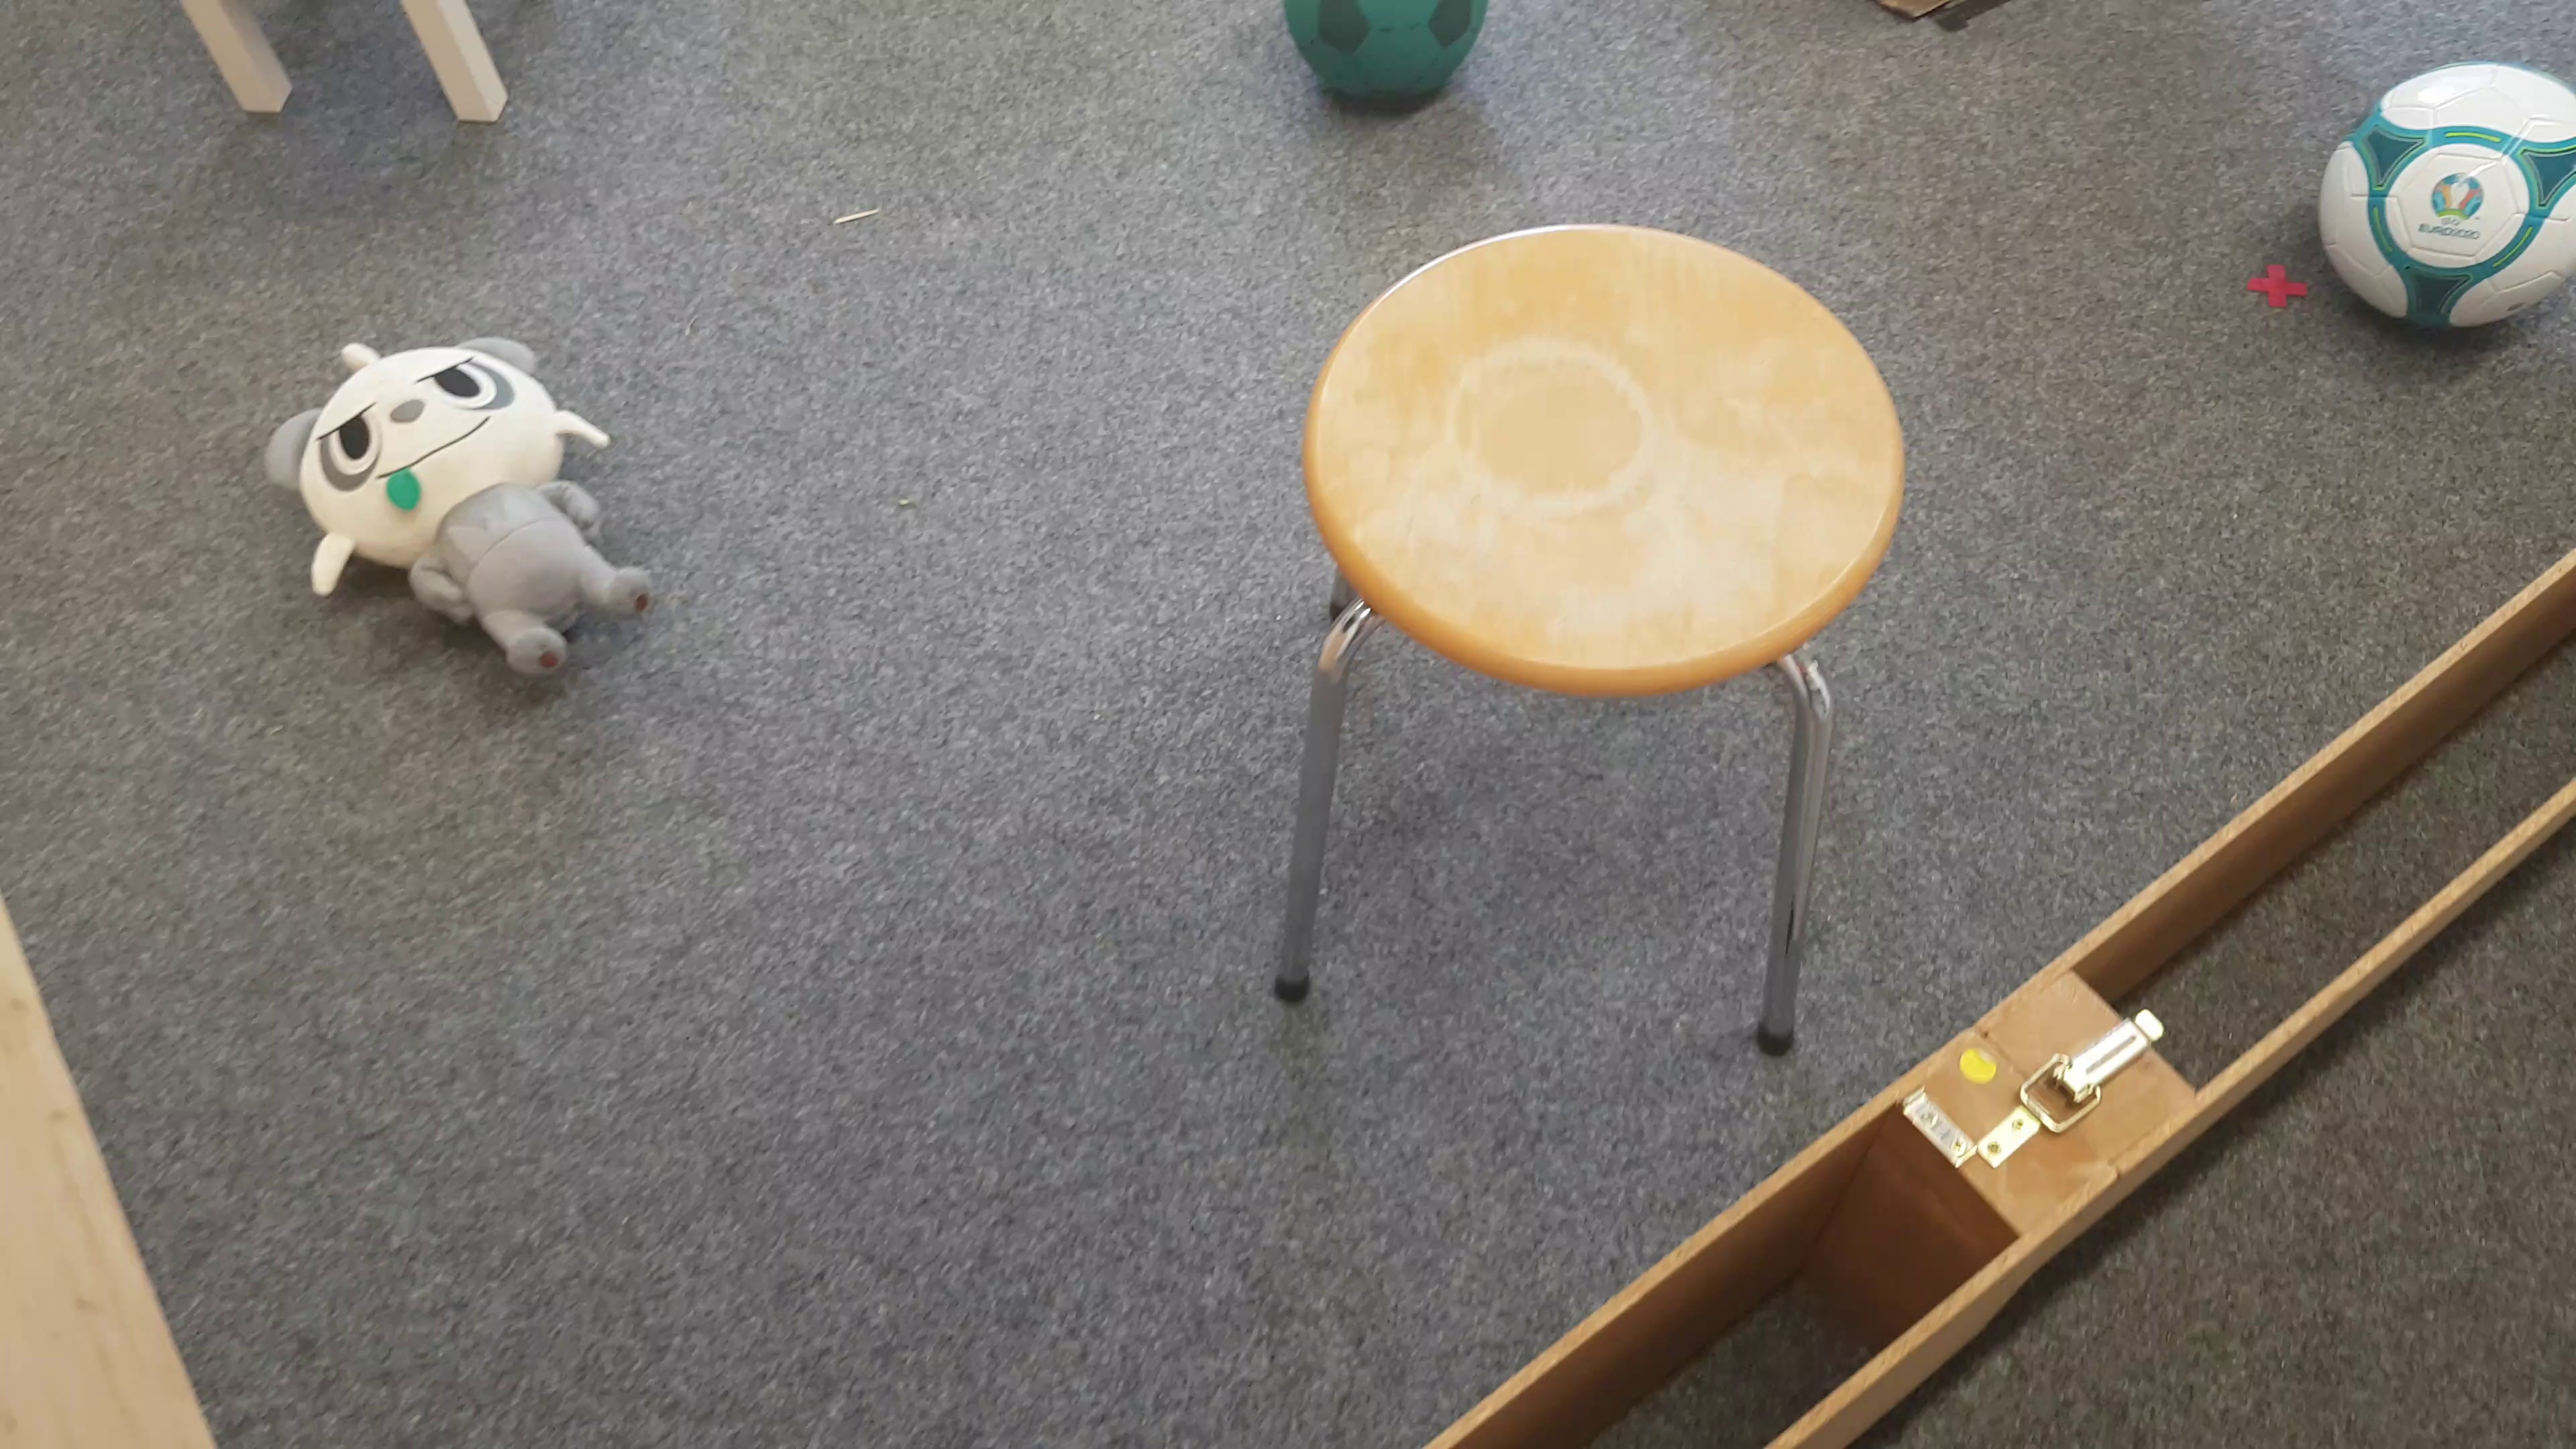grasp: (269, 336, 660, 695)
kick: (2318, 58, 2576, 327), (1283, 0, 1484, 115)
